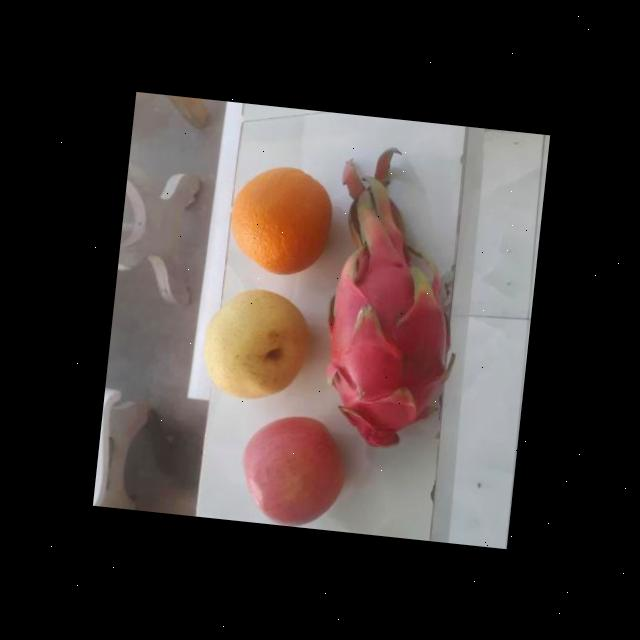apple: (232, 410, 346, 530)
orange: (221, 156, 336, 284)
pear: (198, 281, 313, 410)
pitaya: (310, 238, 456, 469)
